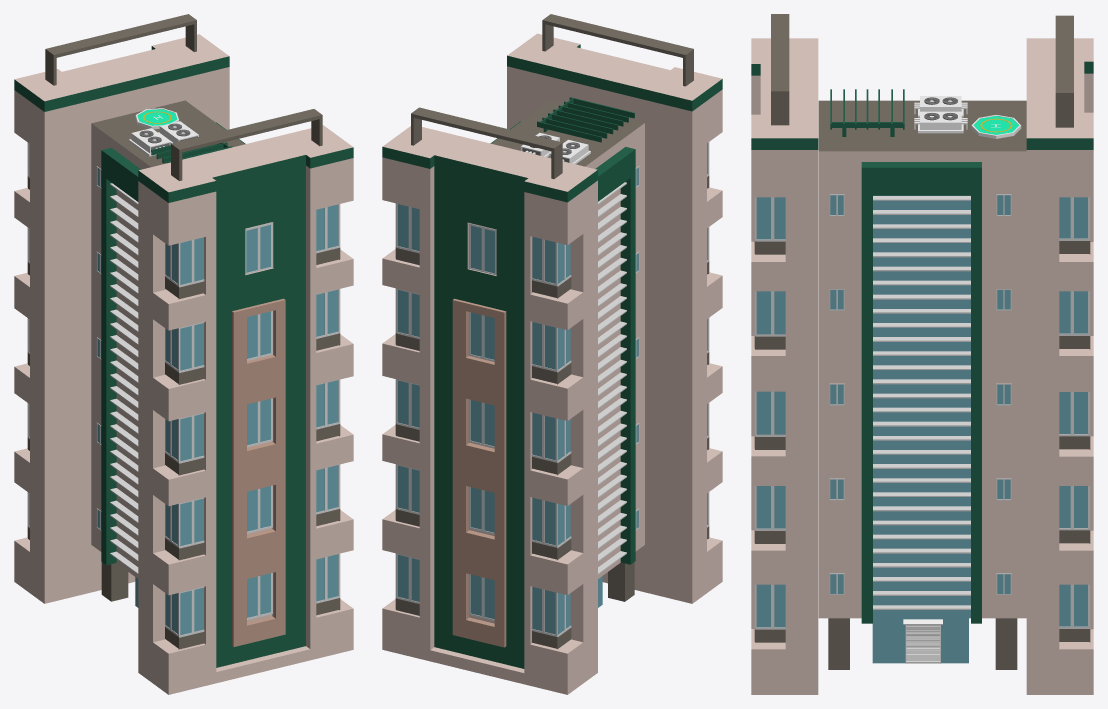
File: Building_072.glb
3 renders of one model, left to right at view 1: azimuth 30°, elevation 25°; view 2: azimuth 150°, elevation 25°; view 3: azimuth 270°, elevation 25°, orthographic. The views are drawn at different scales.
Parts seen in each view (by area): view 1: Cube.13445, Cube.13433, Cube.13443, Cube.13444, Cube.13439, Cube.13441, Plane.1848, Cube.13436, Cube.13435, Plane.1838, Plane.1839, Plane.1841 (+9 smaller); view 2: Cube.13433, Cube.13445, Cube.13434, Cube.13444, Cube.13439, Cube.13441, Plane.1825, Cube.13435, Cube.13436, Plane.1826, Plane.1827, Plane.1829 (+8 smaller); view 3: Cube.13444, Cube.13433, Cube.13445, Cube.13438, Cube.13442, Cube.13437, Cube.13440, Cube.13435, Cube.13436, Plane.1847, Plane.1843, Plane.1846 (+9 smaller).
Boxes of the visible parts, x1,y1,x2,y2 form: Cube.13445: (138,125,353,694); Cube.13433: (14,34,229,603); Cube.13443: (232,298,285,646); Cube.13444: (91,100,244,578); Cube.13439: (101,148,140,565); Cube.13441: (110,183,138,574); Plane.1848: (245,222,272,619); Cube.13436: (171,109,322,180); Cube.13435: (45,14,196,85); Plane.1838: (165,322,204,384); Plane.1839: (165,413,204,475); Plane.1841: (165,497,204,560); Cube.13433: (382,126,597,694); Cube.13445: (507,33,722,603); Cube.13434: (452,298,506,647); Cube.13444: (491,97,644,578); Cube.13439: (595,146,635,564); Cube.13441: (598,182,626,574); Plane.1825: (468,223,496,621); Cube.13435: (411,107,562,178); Cube.13436: (542,14,693,86); Plane.1826: (532,321,571,384); Plane.1827: (532,412,571,475); Plane.1829: (532,497,571,560); Cube.13444: (818,89,1026,618); Cube.13433: (1026,38,1093,694); Cube.13445: (751,38,818,694); Cube.13438: (873,196,970,609); Cube.13442: (861,162,981,623); Cube.13437: (872,618,968,663); Cube.13440: (828,618,1017,669); Cube.13435: (1055,15,1073,127); Cube.13436: (771,14,789,125); Plane.1847: (754,291,785,349); Plane.1843: (754,584,785,642); Plane.1846: (754,391,785,449).
Size of the model in its own units: 0.2971 by 0.8187 by 0.4291.
